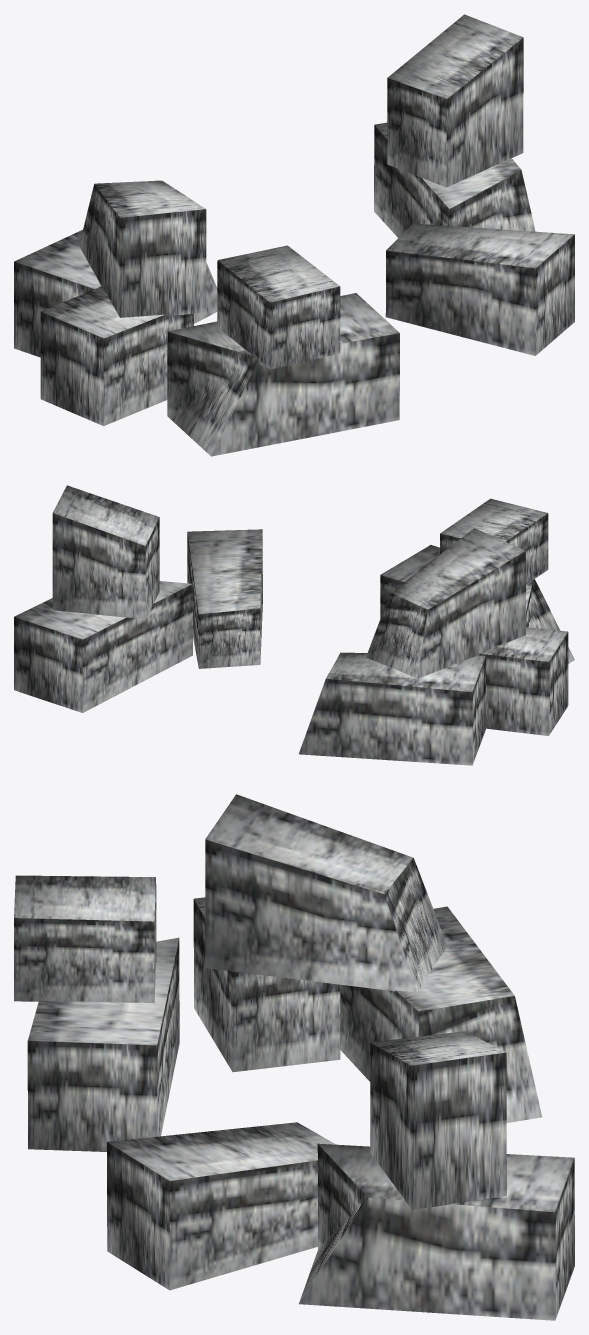
The model's file is S_Build_Snowland182.FBX.
3 views of the same model, one above another, from view 1: azimuth 30°, elevation 25°; view 2: azimuth 150°, elevation 25°; view 3: azimuth 270°, elevation 25° (orthographic). The views are drawn at different scales.
Visible parts, largest first — view 1: S_Build_Snowland182; view 2: S_Build_Snowland182; view 3: S_Build_Snowland182.
Part boxes in pixels (x1=…): S_Build_Snowland182: x1=14, y1=14, x2=574, y2=456; S_Build_Snowland182: x1=14, y1=485, x2=574, y2=765; S_Build_Snowland182: x1=14, y1=794, x2=574, y2=1320.
Size of the model in its own units: 364 by 266 by 133.
